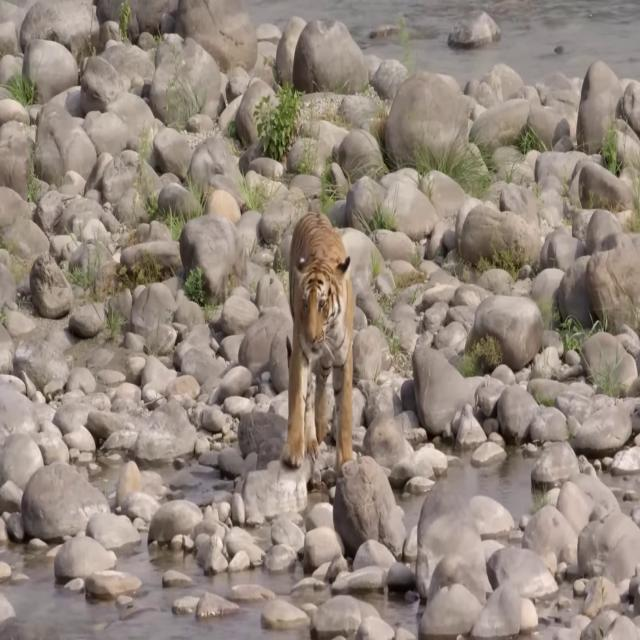tiger: (282, 211, 355, 473)
